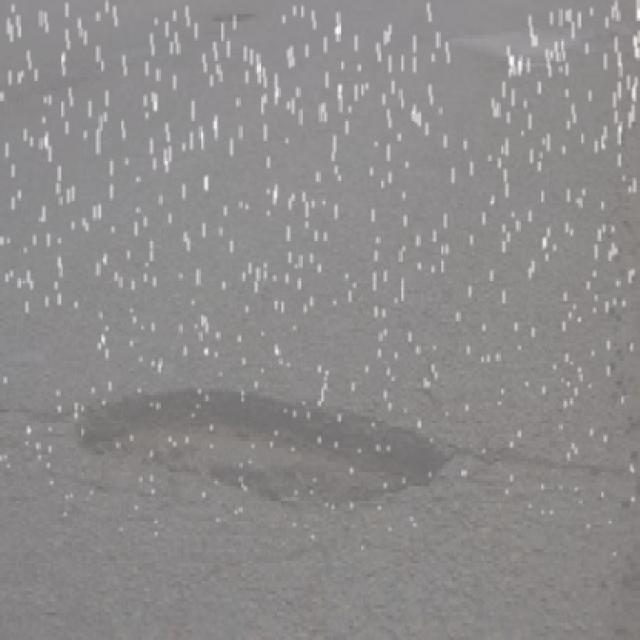Pothole: (55, 370, 480, 546)
